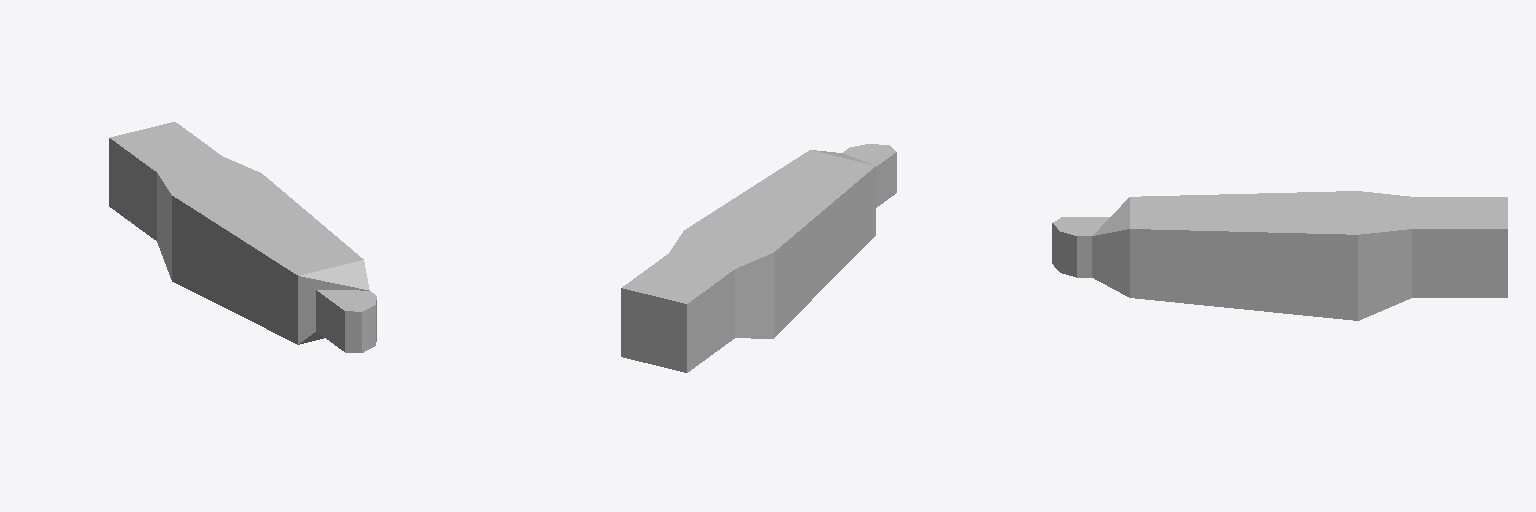
The model's file is left_upper_leg.obj.
3 views of the same model, side by side, from view 1: azimuth 30°, elevation 25°; view 2: azimuth 150°, elevation 25°; view 3: azimuth 270°, elevation 25° (orthographic).
Visible parts, largest first — view 1: cube2; view 2: cube2; view 3: cube2.
Part boxes in pixels (bbox=[...]): cube2: bbox=[109, 122, 376, 352]; cube2: bbox=[621, 144, 896, 372]; cube2: bbox=[1052, 191, 1507, 320].
Bounding box in the file's own units: 0.1091 × 0.1 × 0.4781.